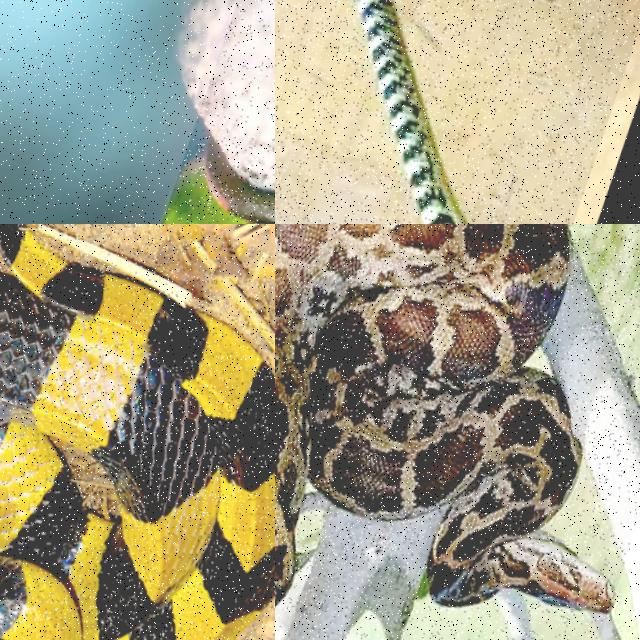Bungarus fasciatus: (0, 224, 274, 639)
Chrysopelea ornata: (355, 0, 467, 223)
Python bivittatus: (275, 224, 613, 611)
Trimeresurus macrops: (164, 150, 274, 223)
